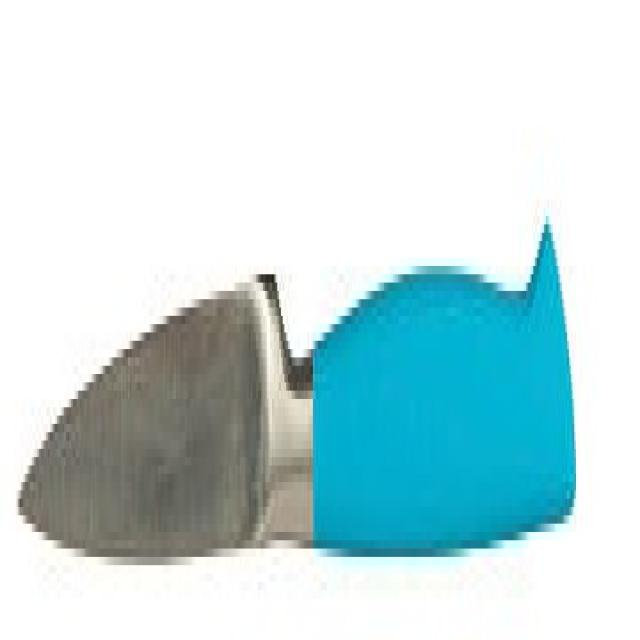knife: (19, 185, 587, 603)
